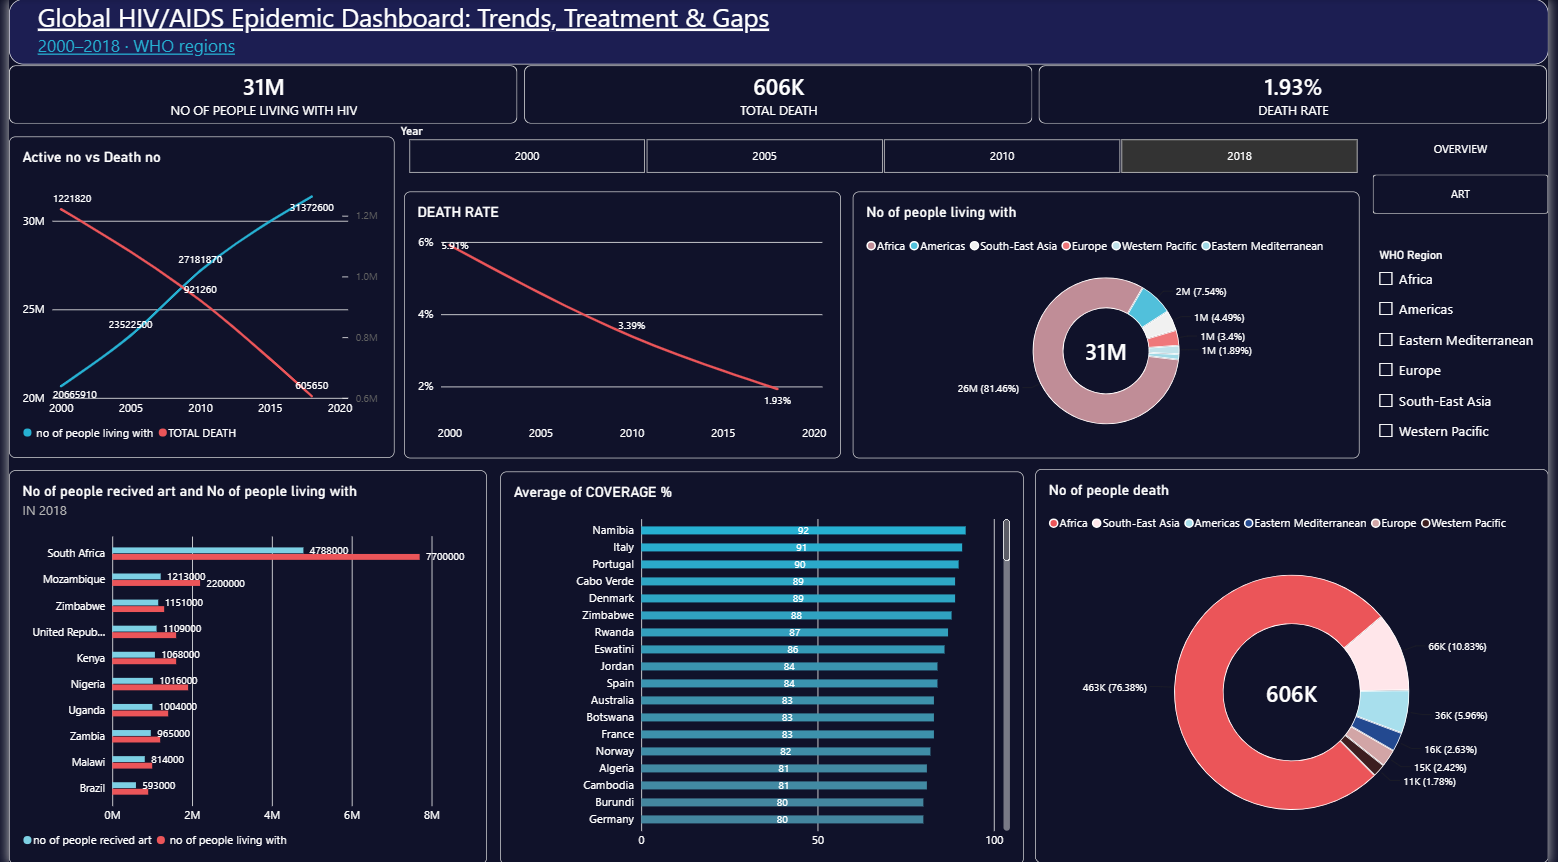

This screenshot's page, from the dashboard's own definition file:
{"tool":"powerbi","page":{"name":"OVERVIEW","canvas":[1920,1080],"ordinal":0},"visuals":[{"type":"textbox","box":[0,0,1920.4,82],"z":0},{"type":"cardVisual","fields":{"Data":["no_of_people_living_with_hiv_by_country_clean csv.NO OF PEOPLE LIVING WITH HIV","no_of_deaths_by_country_clean csv.TOTAL DEATH","no_of_deaths_by_country_clean csv.DEATH RATE"]},"box":[0,82,1920.4,73.3],"z":1000},{"type":"donutChart","title":"No of people living with","fields":{"Category":["no_of_people_living_with_hiv_by_country_clean csv.WHO Region"],"Y":["Sum(no_of_people_living_with_hiv_by_country_clean csv.no of people living with)"]},"box":[1052.9,239.3,632.2,333],"z":2000},{"type":"lineChart","title":"Active no vs Death no ","fields":{"Category":["no_of_people_living_with_hiv_by_country_clean csv.Year"],"Y":["Sum(no_of_people_living_with_hiv_by_country_clean csv.no of people living with)"],"Y2":["no_of_deaths_by_country_clean csv.TOTAL DEATH"]},"box":[0,171.5,480.6,400.8],"z":3000},{"type":"donutChart","title":"No of people death","fields":{"Category":["no_of_deaths_by_country_clean csv.WHO Region"],"Y":["Sum(no_of_deaths_by_country_clean csv.no of people death)"]},"box":[1280.3,586.8,640.1,492.6],"z":4000},{"type":"lineChart","title":"DEATH RATE","fields":{"Category":["no_of_deaths_by_country_clean csv.Year"],"Y":["no_of_deaths_by_country_clean csv.DEATH RATE"]},"box":[492.6,239.3,544.4,333],"z":5000},{"type":"slicer","fields":{"Values":["art_coverage_by_country_clean csv.WHO Region"]},"box":[1700.4,310,219.9,261.5],"z":6000},{"type":"slicer","fields":{"Values":["no_of_cases_adults_15_to_49_by_country_clean csv.Year"]},"box":[479.7,155.8,1220.8,60.6],"z":7000},{"type":"clusteredBarChart","title":"No of people recived art and No of people living with","fields":{"Category":["art_coverage_by_country_clean csv.Country"],"Y":["Sum(art_coverage_by_country_clean csv.no of people recived art)","Sum(art_coverage_by_country_clean csv.no of people living with)"]},"box":[0,588.3,596.3,492.6],"z":8000},{"type":"clusteredBarChart","title":"Average of COVERAGE %","fields":{"Category":["art_coverage_by_country_clean csv.Country"],"Y":["Avg(art_coverage_by_country_clean csv.COVERAGE )"]},"box":[613,588.7,652.8,491.8],"z":9000},{"type":"pageNavigator","box":[1700.4,162.8,219.4,107.7],"z":10000}]}

Visuals, with their boxes in screenshot pixels (x1, y1, x2, y2), scaled from the page's 1920x1080 canvas onto the 1558x862 screenshot:
textbox: (0, 0, 1557, 65)
cardVisual - no_of_people_living_with_hiv_by_country_clean csv.NO OF PEOPLE LIVING WITH HIV x no_of_deaths_by_country_clean csv.TOTAL DEATH: (0, 65, 1557, 124)
"No of people living with" donutChart: (854, 191, 1367, 457)
"Active no vs Death no " lineChart: (0, 137, 390, 457)
"No of people death" donutChart: (1039, 468, 1557, 861)
"DEATH RATE" lineChart: (400, 191, 841, 457)
slicer - art_coverage_by_country_clean csv.WHO Region: (1380, 247, 1557, 456)
slicer - no_of_cases_adults_15_to_49_by_country_clean csv.Year: (389, 124, 1380, 173)
"No of people recived art and No of people living with" clusteredBarChart: (0, 470, 484, 861)
"Average of COVERAGE %" clusteredBarChart: (497, 470, 1027, 861)
pageNavigator: (1380, 130, 1557, 216)
